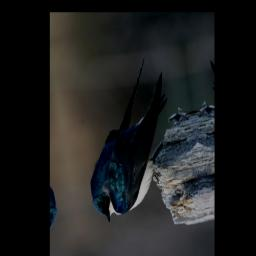Swallow: (72, 54, 184, 226)
